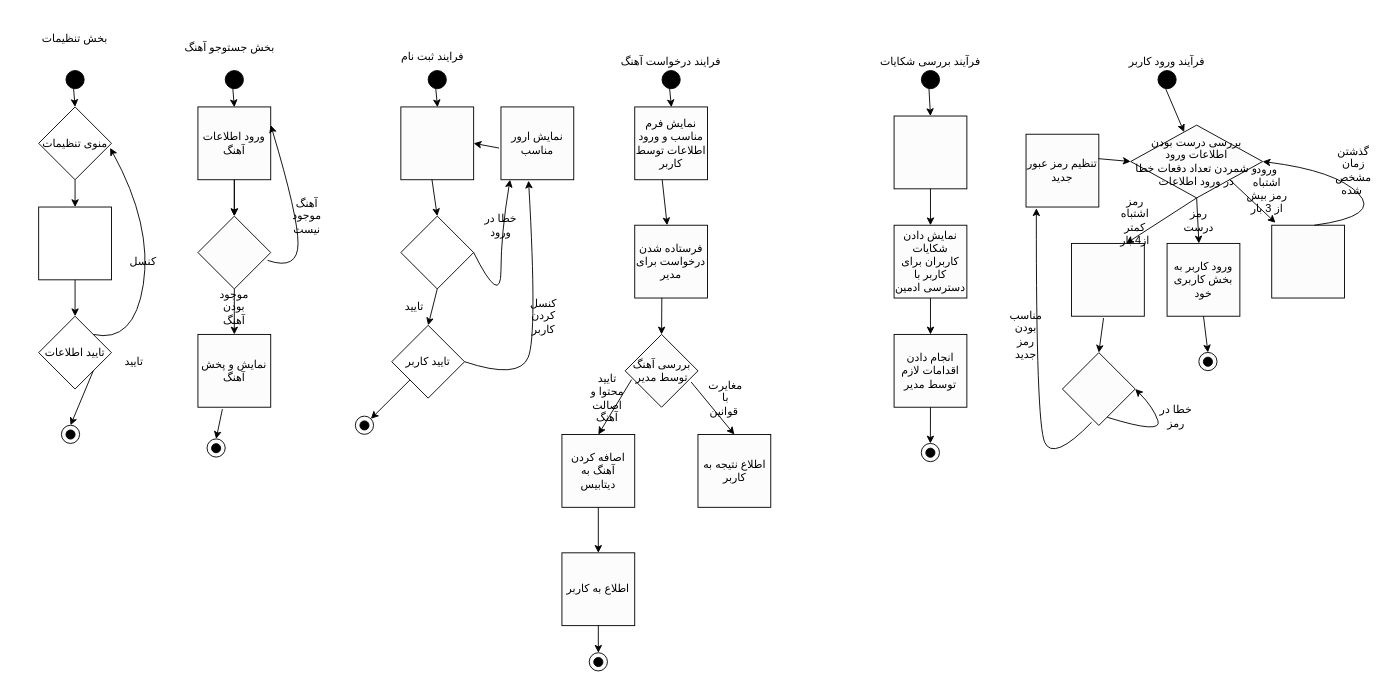
Some shapes in this 1387 by 687 pixel diagram are drawn without their labels. Each missing label, with the centre of its shape:
"بررسی موجود بودن آهنگ" belongs at (x=234, y=252).
"فرستادن متن شکایت توسط کاربر برای مدیر" belongs at (x=930, y=152).
"مسدود کردن ورود اطلاعات توسط کاربر برای مدت مشخص" belongs at (x=1308, y=261).
"نمایش فرم فراموشی رمز عبور" belongs at (x=1107, y=279).
"ورود اطلاعات جدید" belongs at (x=74, y=243).
"ورود اطلاعات کاربر" belongs at (x=437, y=143).
"ورود و بررسی رمز عبور جدید" belongs at (x=1098, y=388).
"چک کردن اطلاعات" belongs at (x=437, y=252).
